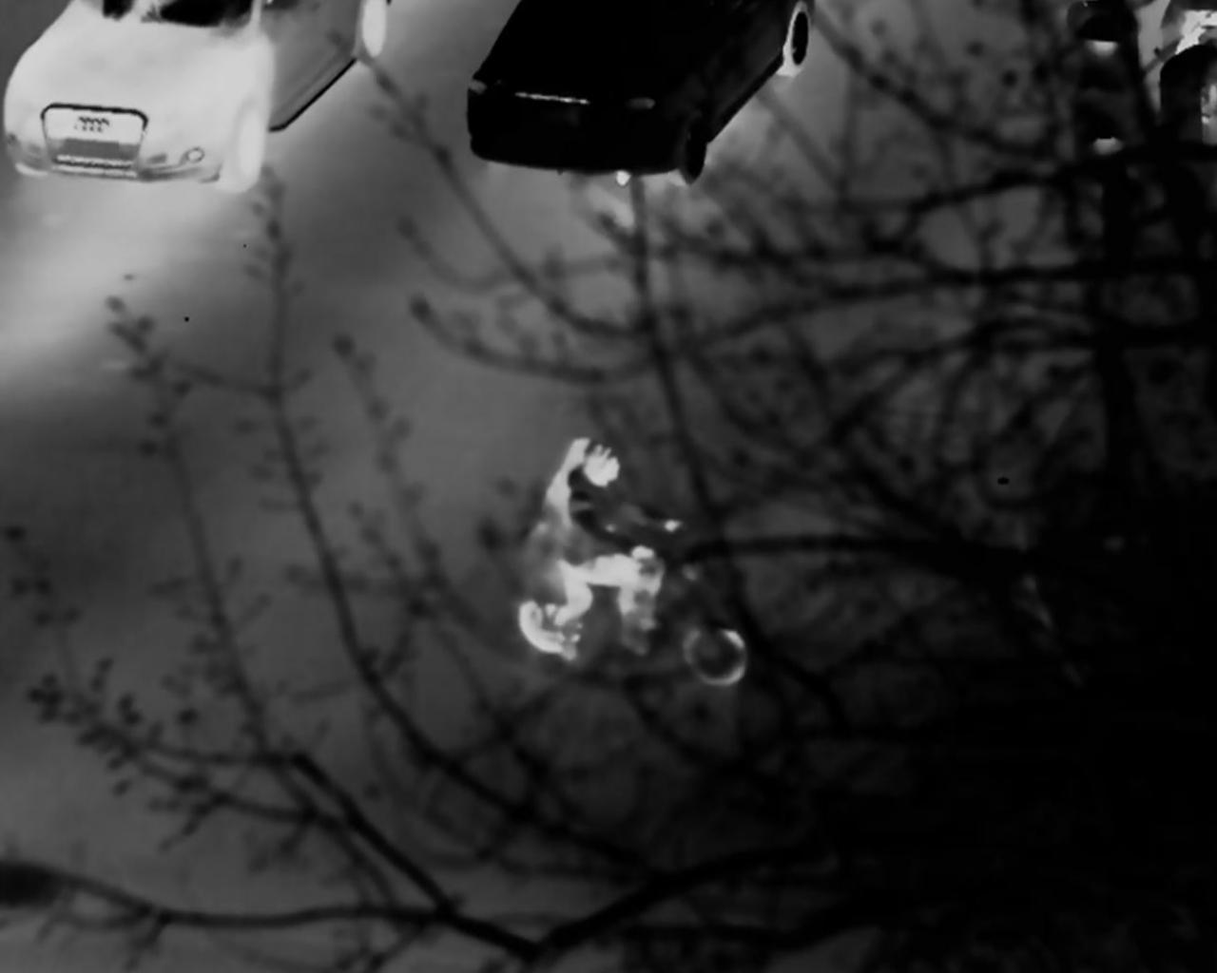person: (538, 430, 666, 647)
